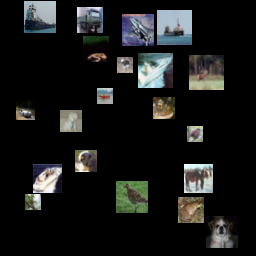airplane: (122, 14, 154, 46)
automobile: (16, 101, 35, 120)
bird: (116, 181, 148, 213), (187, 126, 203, 142), (25, 194, 41, 210)
deer: (189, 55, 224, 90)
dog: (206, 216, 238, 248), (60, 110, 82, 132), (75, 150, 97, 172), (117, 57, 133, 73)
frog: (178, 197, 204, 223), (83, 36, 109, 62), (153, 97, 175, 119)
ship: (157, 10, 192, 45), (138, 53, 173, 88), (24, 1, 56, 33), (33, 164, 62, 193), (97, 88, 113, 104)
